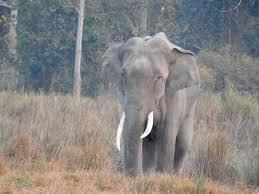elephant: (103, 32, 200, 174)
